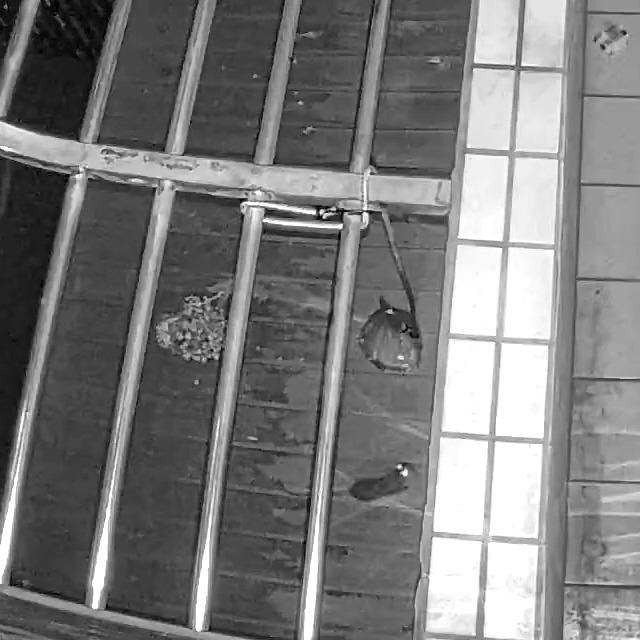rat: (279, 461, 417, 501)
